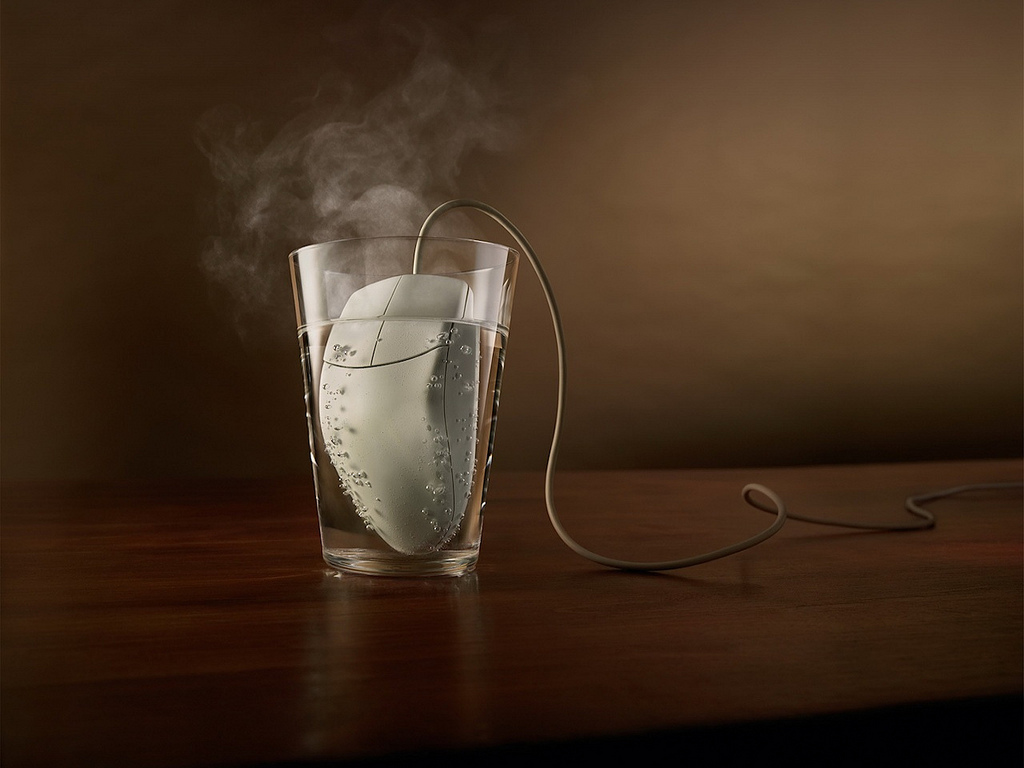glass of water: (290, 232, 510, 578)
